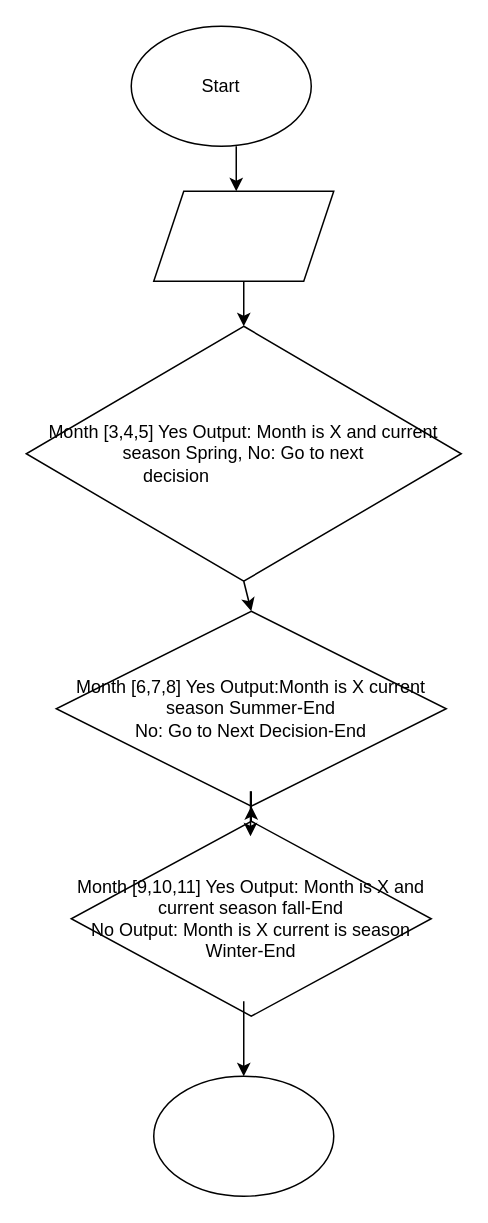
This 488x1223 diagram has some shape labels left out. Each missing label, with the centre of its shape:
"End" goes at point 243,1135.
"Enter #1-12" goes at point 243,235.
